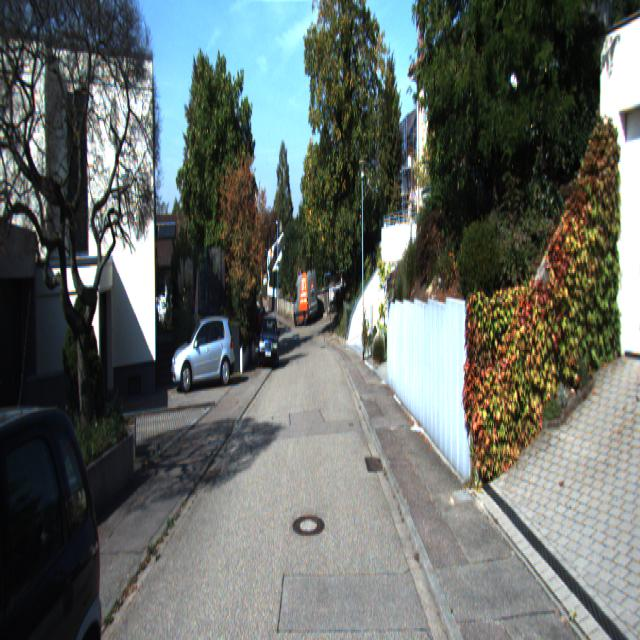Car: (0, 385, 116, 639), (171, 310, 237, 390), (292, 270, 318, 326), (258, 315, 280, 369)
